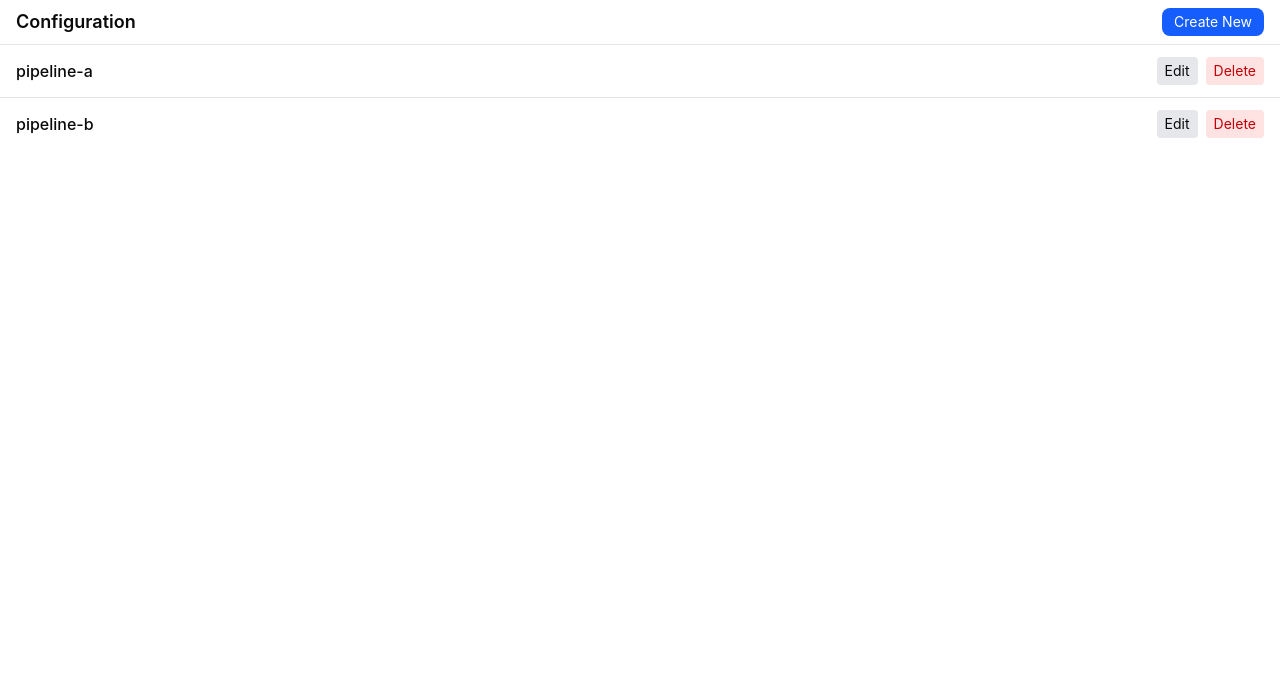
Test: ConfigPanel › shows config form when edit is clicked
The width and height of the screenshot is (1280, 694).
Click the button with test id "config-edit-pipeline-a". click: (1177, 71)
box: x1=1157 y1=57 x2=1198 y2=85
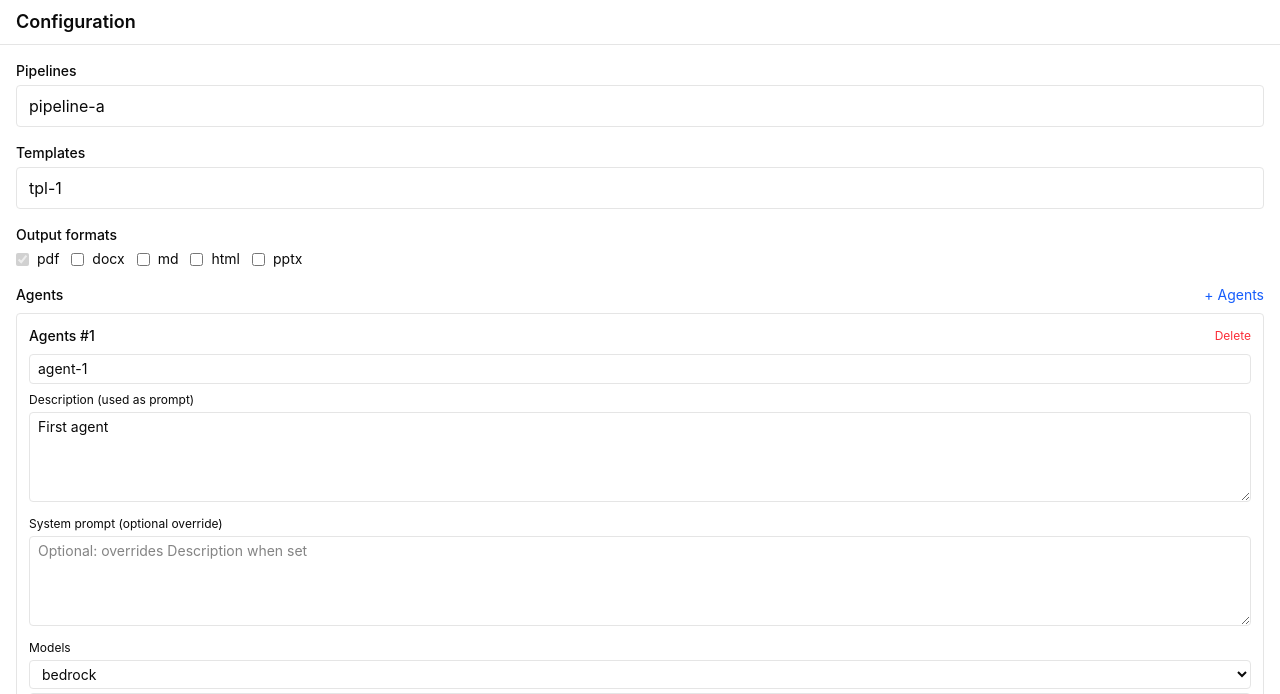
Expected: the field with test id "config-name" holds "pipeline-a", x1=16 y1=85 x2=1264 y2=127
